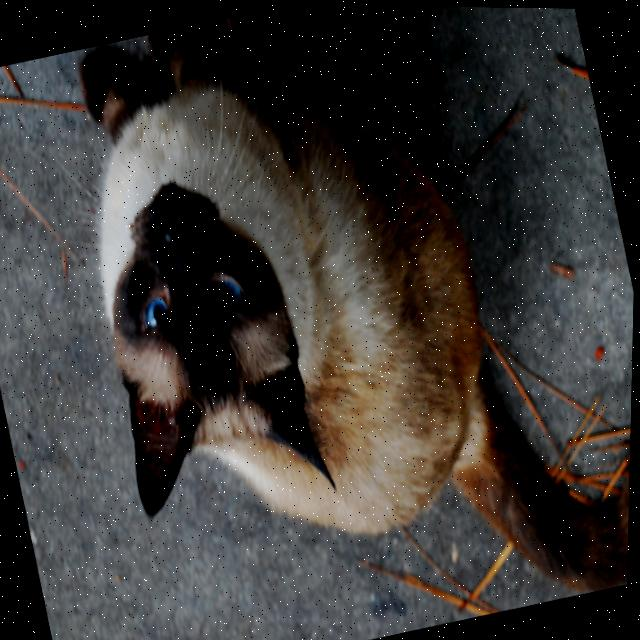Siamese: (34, 1, 640, 640)
